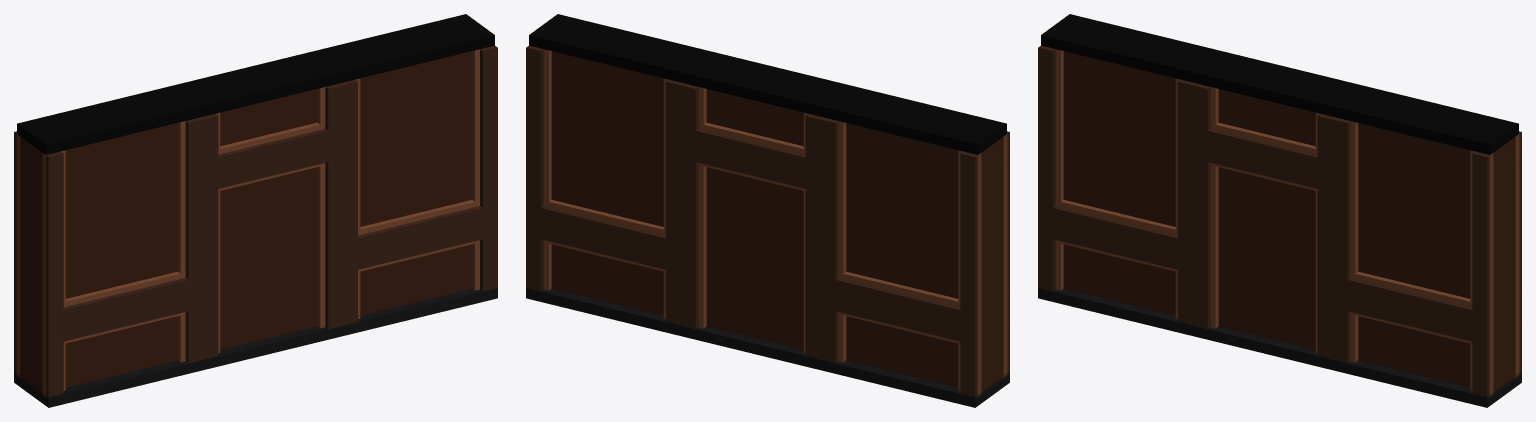
File: Wall-Wood-Model-03.fbx
3 views of the same model, side by side, from view 1: azimuth 30°, elevation 25°; view 2: azimuth 150°, elevation 25°; view 3: azimuth 330°, elevation 25° (orthographic).
Parts seen in each view (by area): view 1: Wall-Wood-Model-03; view 2: Wall-Wood-Model-03; view 3: Wall-Wood-Model-03.
Boxes of the visible parts, <box> form: Wall-Wood-Model-03: <box>14,14,497,407</box>; Wall-Wood-Model-03: <box>526,14,1009,407</box>; Wall-Wood-Model-03: <box>1038,14,1521,407</box>.
Size of the model in its own units: 90 by 50 by 12.
1 material, 1 textured.
